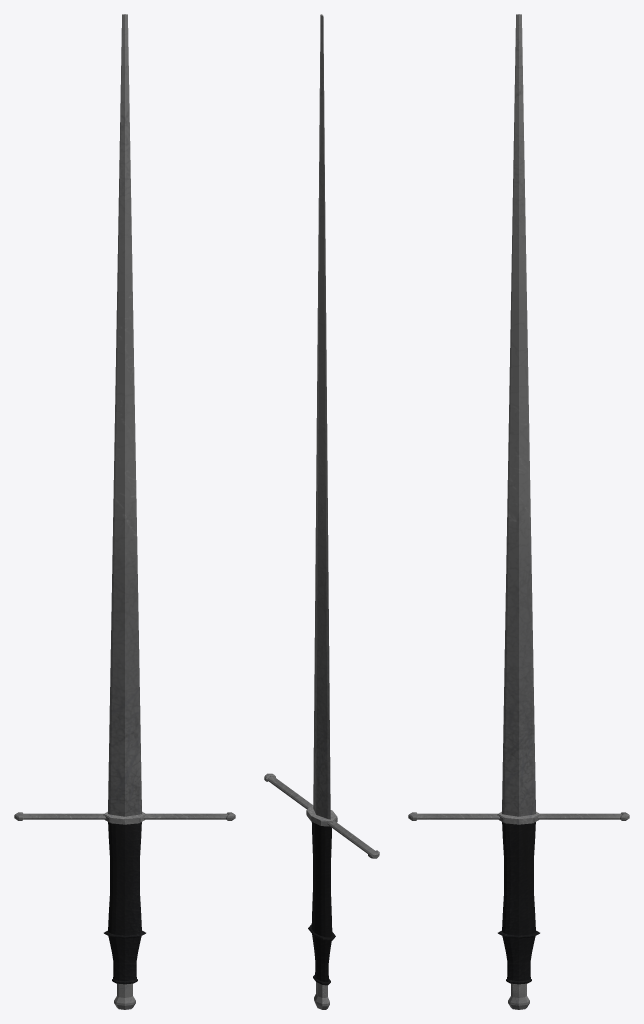
The model's file is 무기_척돌검.fbx.
3 renders of one model, left to right at view 1: azimuth 90°, elevation 25°; view 2: azimuth 210°, elevation 25°; view 3: azimuth 270°, elevation 25°, orthographic.
Parts seen in each view (by area): view 1: 척돌검; view 2: 척돌검; view 3: 척돌검.
Boxes of the visible parts, bbox=[...] form: 척돌검: bbox=[14, 14, 235, 1009]; 척돌검: bbox=[264, 14, 379, 1009]; 척돌검: bbox=[408, 14, 629, 1009].
Size of the model in its own units: 2.5 by 110 by 22.15.
